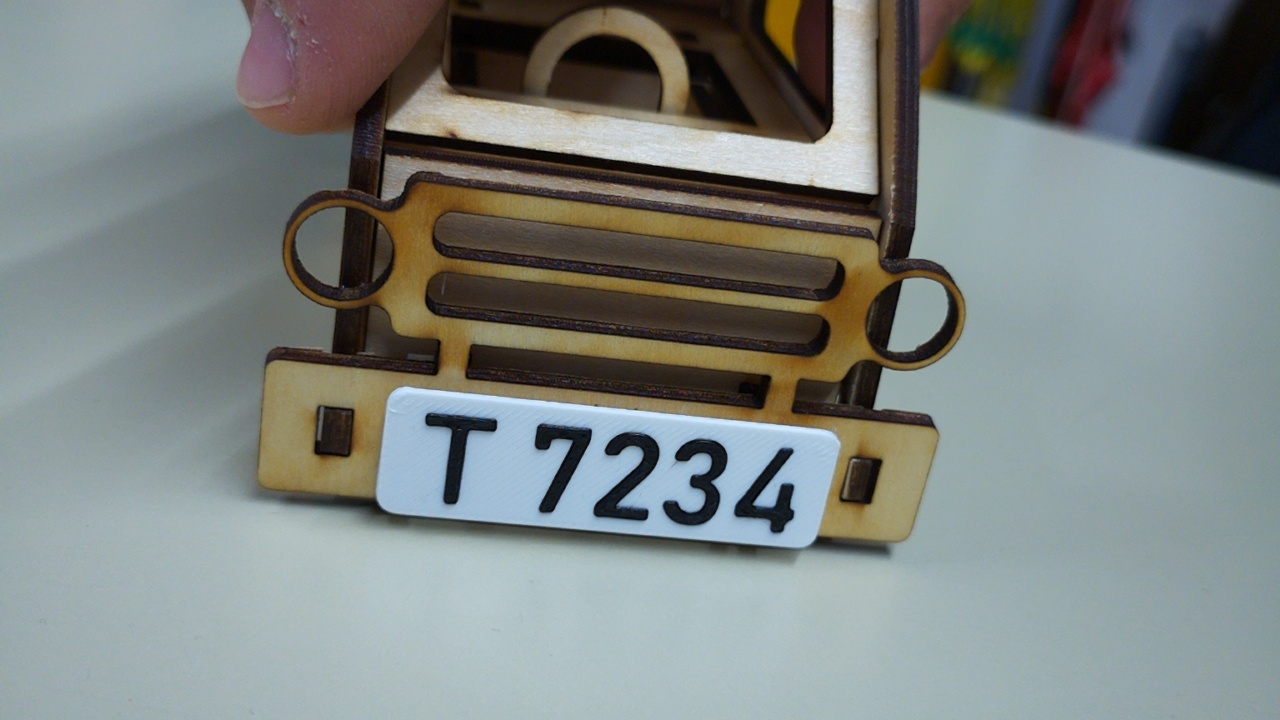license_plate: (370, 383, 843, 551)
